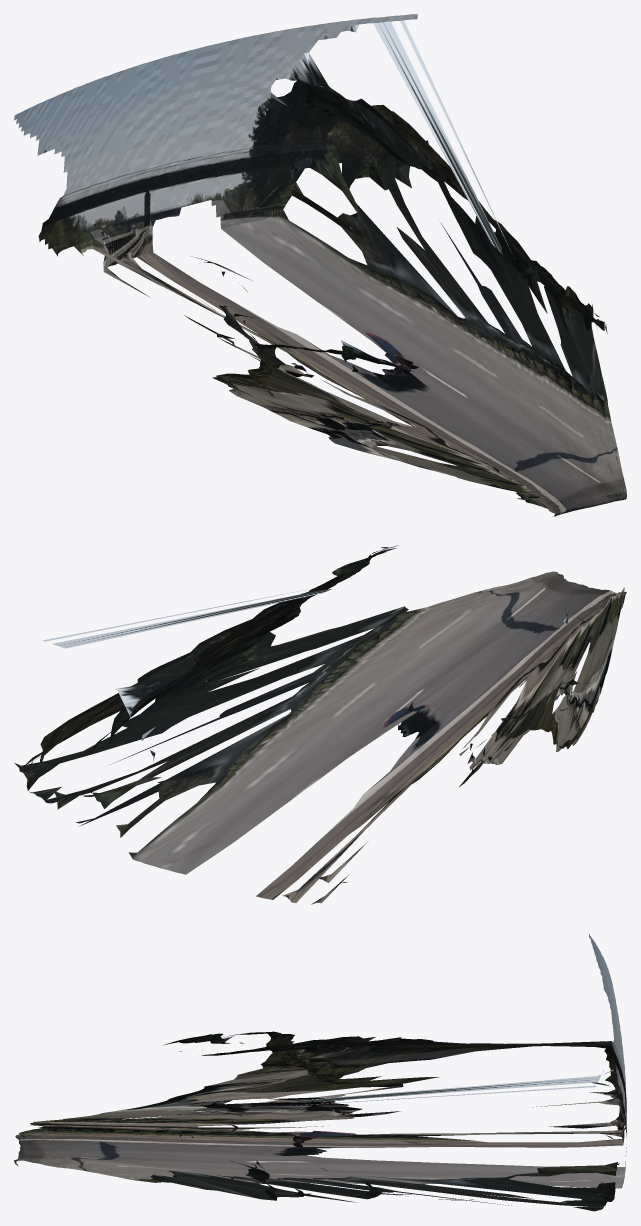
The picture shows the model from 3 angles, top to bottom: view 1: azimuth 30°, elevation 25°; view 2: azimuth 150°, elevation 25°; view 3: azimuth 270°, elevation 25°; orthographic projection. The views are drawn at different scales.
Parts seen in each view (by area): view 1: defaultobject; view 2: defaultobject; view 3: defaultobject.
Part boxes in pixels (left/top/right/bottom): defaultobject: left=14, top=14, right=626, bottom=516; defaultobject: left=14, top=545, right=626, bottom=904; defaultobject: left=14, top=934, right=626, bottom=1211.
Size of the model in its own units: 27.62 by 12.63 by 44.62.
Materials: 1 (1 with a texture image).
